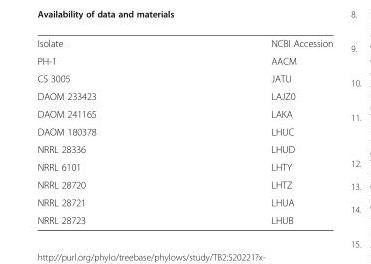table: (36, 37, 332, 225)
table column: (183, 37, 332, 225), (36, 37, 183, 225)
table row: (36, 51, 332, 69), (36, 69, 332, 87), (36, 104, 332, 122), (36, 122, 332, 140), (36, 157, 332, 175), (36, 175, 332, 193), (36, 87, 332, 104), (36, 140, 332, 157), (36, 193, 332, 210), (36, 210, 332, 225), (36, 37, 332, 51)
